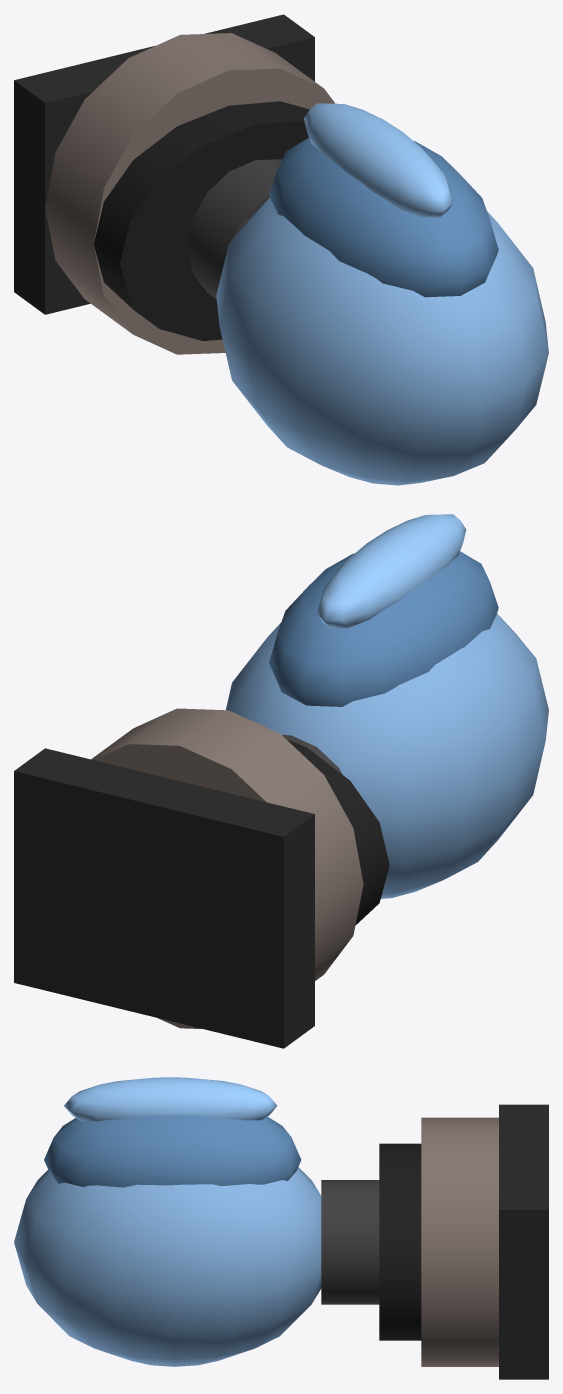
File: CMU3DSmallBlueWallLight.glb
3 views of the same model, one above another, from view 1: azimuth 30°, elevation 25°; view 2: azimuth 150°, elevation 25°; view 3: azimuth 270°, elevation 25° (orthographic). The views are drawn at different scales.
Parts seen in each view (by area): view 1: Bulb glass body, Socket metal collar, Socket black insulator, Glass midtone, Socket wall foot, Glass highlight, Bulb neck; view 2: Socket wall foot, Bulb glass body, Socket metal collar, Glass midtone, Glass highlight, Socket black insulator; view 3: Bulb glass body, Socket metal collar, Glass midtone, Socket wall foot, Socket black insulator, Bulb neck, Glass highlight.
Part boxes in pixels (x1,y1,x2,y2): Bulb glass body: (216,197,548,485); Socket metal collar: (45,33,335,354); Socket black insulator: (94,101,309,341); Glass midtone: (269,137,498,297); Socket wall foot: (14,14,314,314); Glass highlight: (304,103,453,217); Bulb neck: (187,159,281,298); Socket wall foot: (14,748,314,1048); Bulb glass body: (225,613,548,898); Socket metal collar: (91,708,363,1028); Glass midtone: (269,551,498,706); Glass highlight: (317,514,466,628); Socket black insulator: (286,739,389,925); Bulb glass body: (14,1167,321,1366); Socket metal collar: (421,1117,498,1366); Glass midtone: (44,1115,301,1187); Socket wall foot: (499,1104,548,1379); Socket black insulator: (379,1143,421,1340); Bulb neck: (321,1180,379,1304); Glass highlight: (64,1077,277,1121).
Bounding box in the file's own units: 0.125 × 0.1505 × 0.268.
